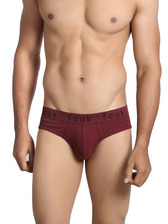clothoes: (35, 102, 135, 164)
